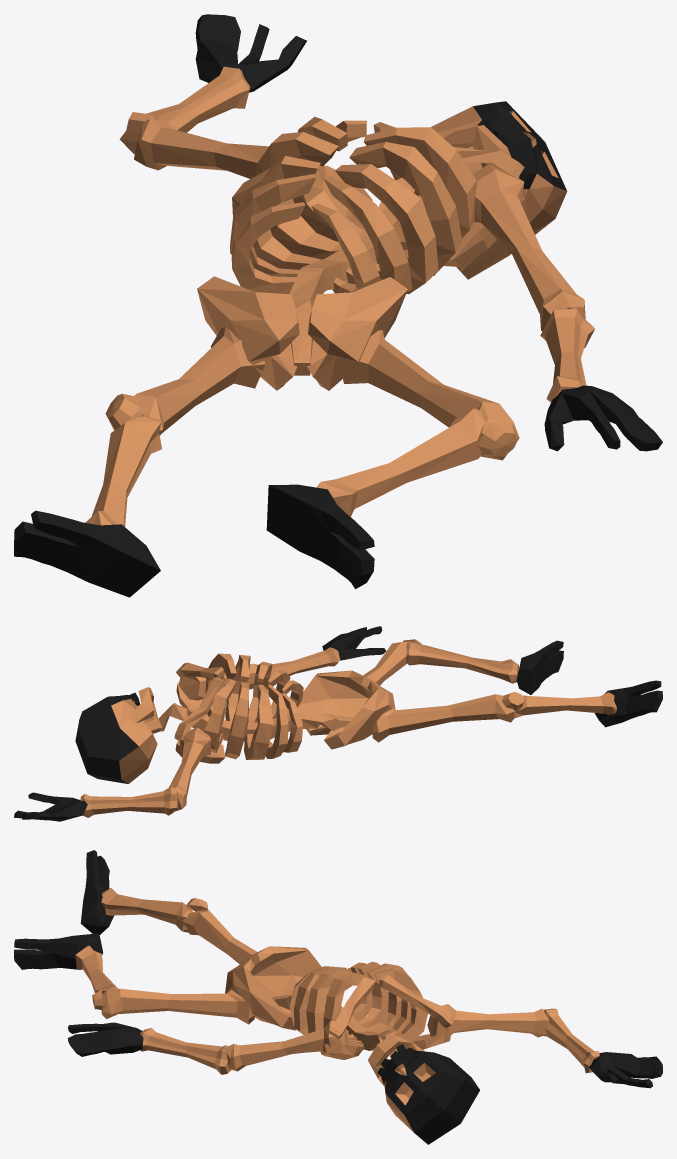
File: SM_Prop_Skeleton_Ground_03.glb
3 views of the same model, one above another, from view 1: azimuth 30°, elevation 25°; view 2: azimuth 150°, elevation 25°; view 3: azimuth 270°, elevation 25° (orthographic). The views are drawn at different scales.
Parts seen in each view (by area): view 1: SM_Prop_Skeleton_Ground_03_00; view 2: SM_Prop_Skeleton_Ground_03_00; view 3: SM_Prop_Skeleton_Ground_03_00.
Part boxes in pixels (x1,y1,x2,y2): SM_Prop_Skeleton_Ground_03_00: [14, 14, 662, 597]; SM_Prop_Skeleton_Ground_03_00: [14, 626, 662, 821]; SM_Prop_Skeleton_Ground_03_00: [14, 850, 662, 1144].
Size of the model in its own units: 1.55 by 0.4067 by 1.91.
Materials: 1 (1 with a texture image).
